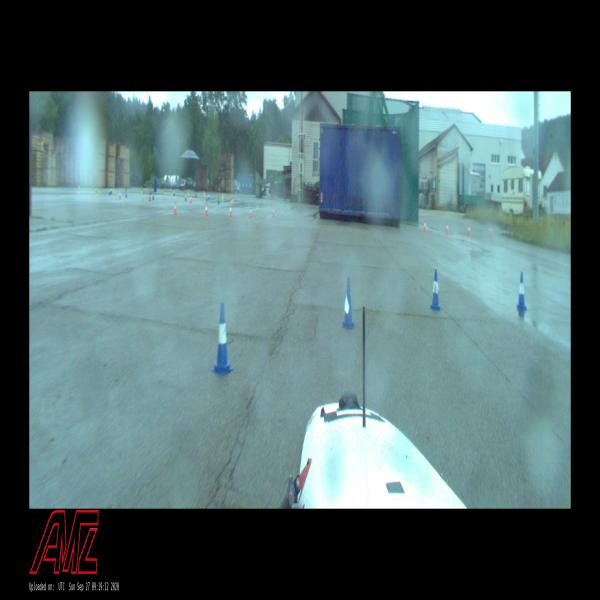blue_cone: (212, 303, 232, 374), (342, 277, 355, 329), (430, 270, 441, 310), (517, 272, 526, 310), (184, 192, 187, 202), (218, 195, 220, 204), (206, 194, 208, 202), (208, 193, 210, 200)
orange_cone: (173, 201, 177, 214), (445, 222, 449, 235), (204, 204, 208, 215), (118, 189, 122, 200), (489, 225, 492, 238), (229, 205, 232, 216), (249, 207, 252, 218), (272, 207, 275, 218), (423, 220, 426, 231), (189, 193, 192, 204), (468, 224, 470, 236), (149, 192, 151, 201)
